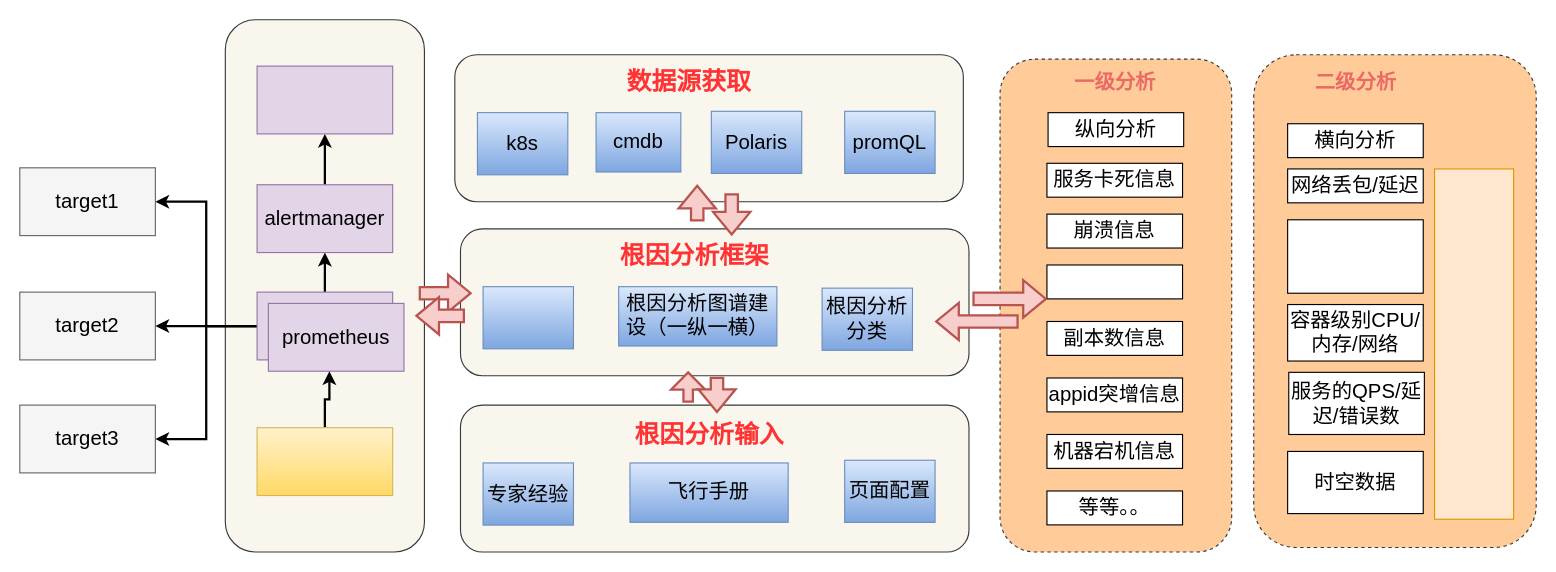
Image size: 1556x572. Some labels were removed from this diagram. The centre of each missing label's shape, as x and y in pixels:
告警平台: the point at 324,99
告警输入: the point at 324,461
方差/差分等检测方法: the point at 1473,343
根因类别: the point at 527,317
网络信息: the point at 1114,281
节点CPU/内存/load值/磁盘/网络: the point at 1355,256
